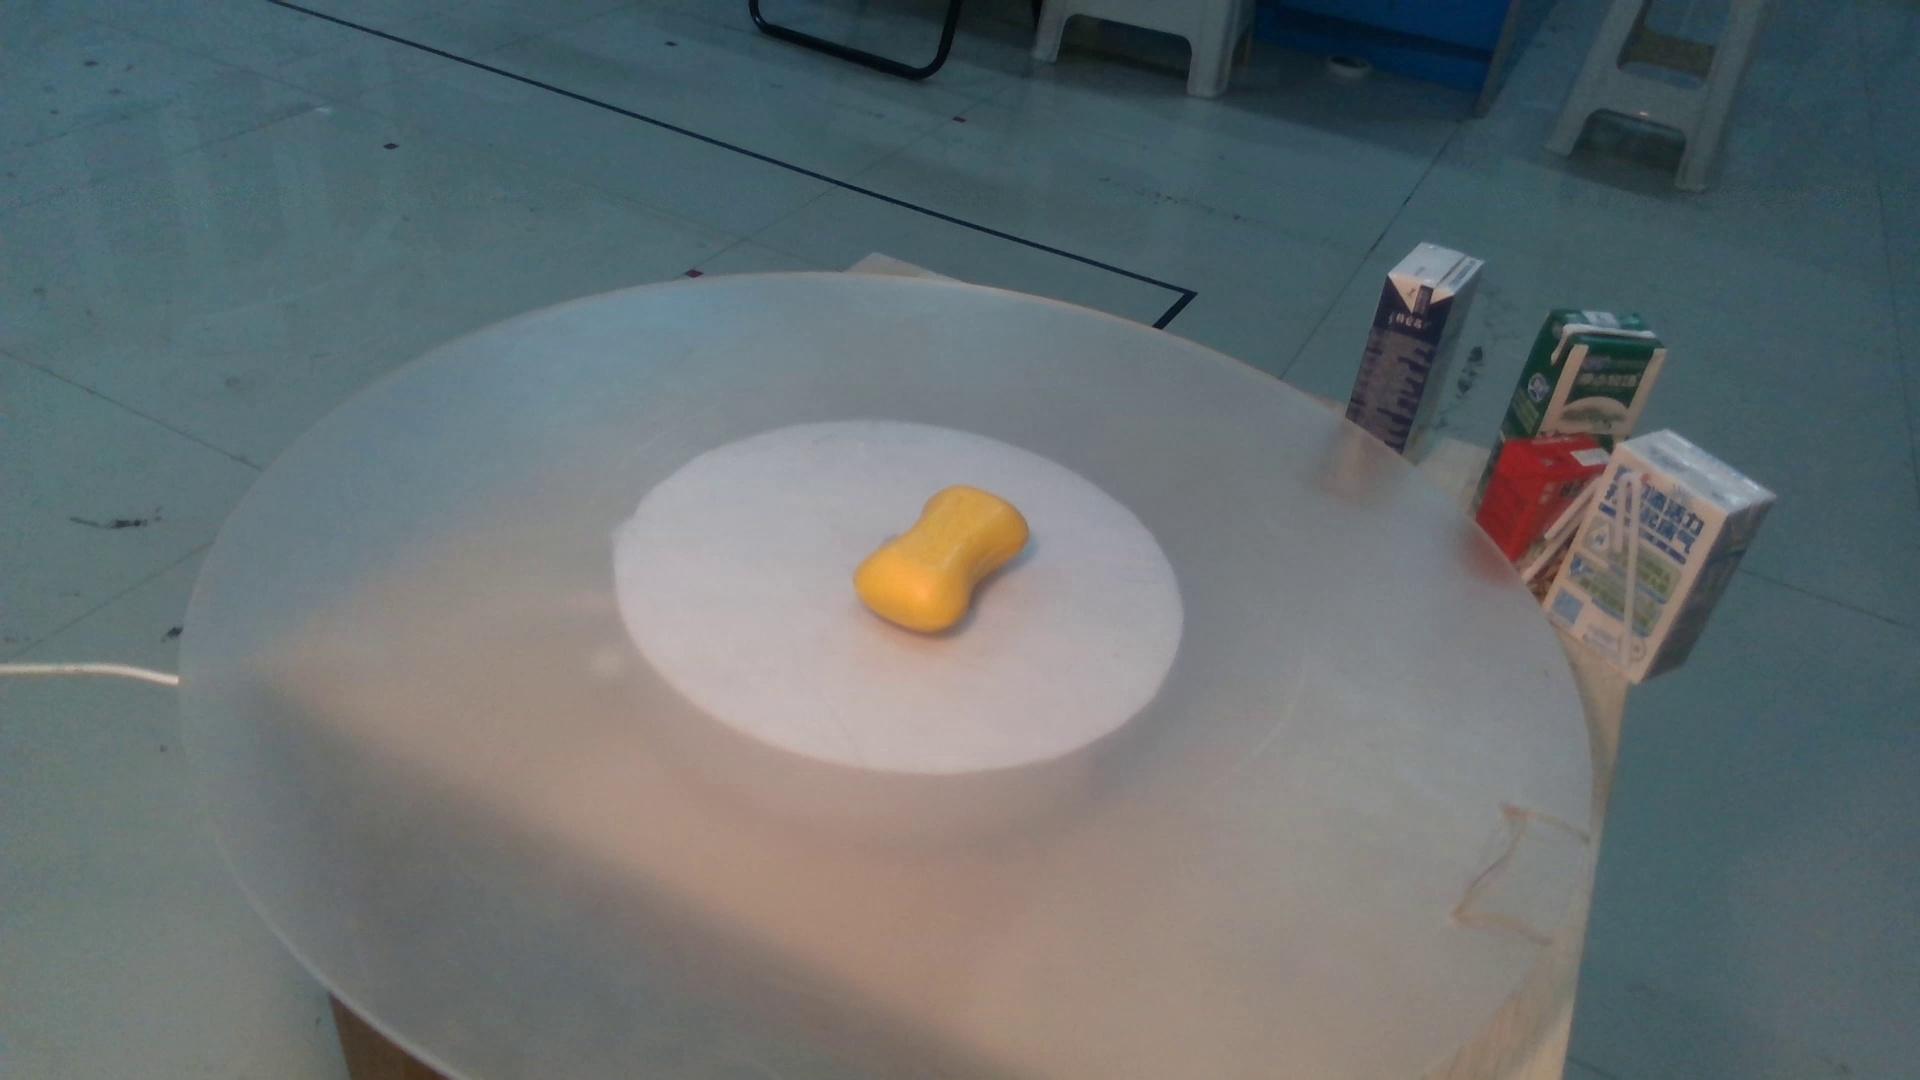CA003_1: (824, 473, 1043, 667)
